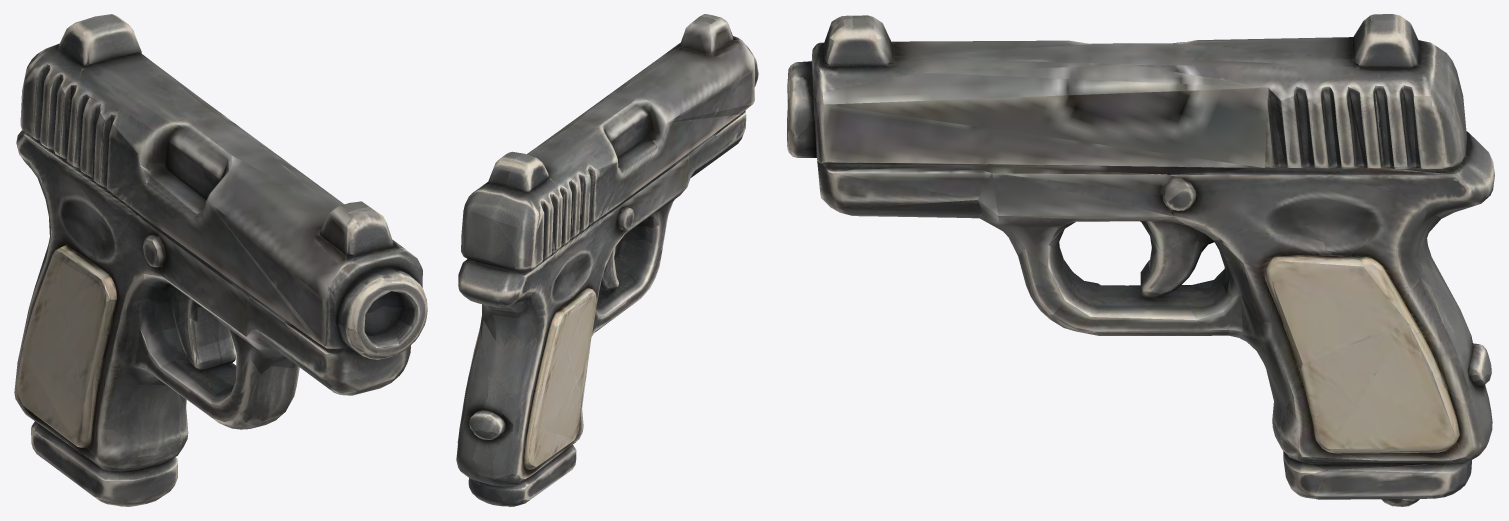
The model's file is gun_deuce.glb.
3 views of the same model, side by side, from view 1: azimuth 30°, elevation 25°; view 2: azimuth 150°, elevation 25°; view 3: azimuth 270°, elevation 25° (orthographic). The views are drawn at different scales.
Size of the model in its own units: 0.0273 by 0.1212 by 0.16.
1 material, 1 textured.
